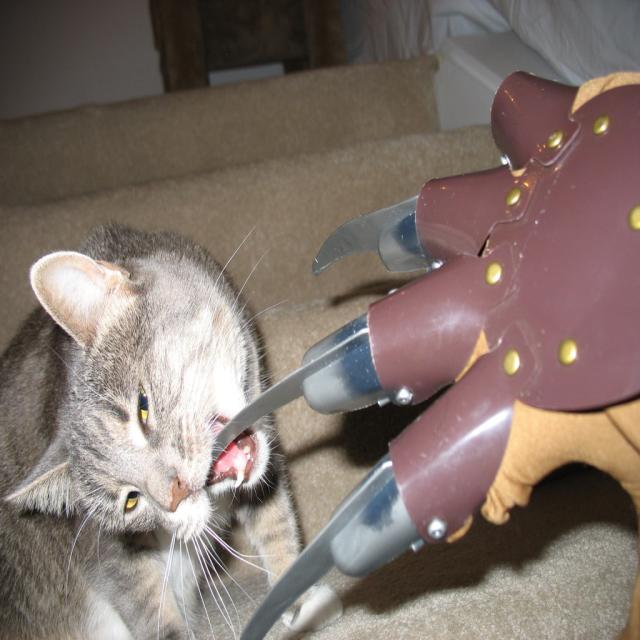Cat: (0, 212, 344, 638)
